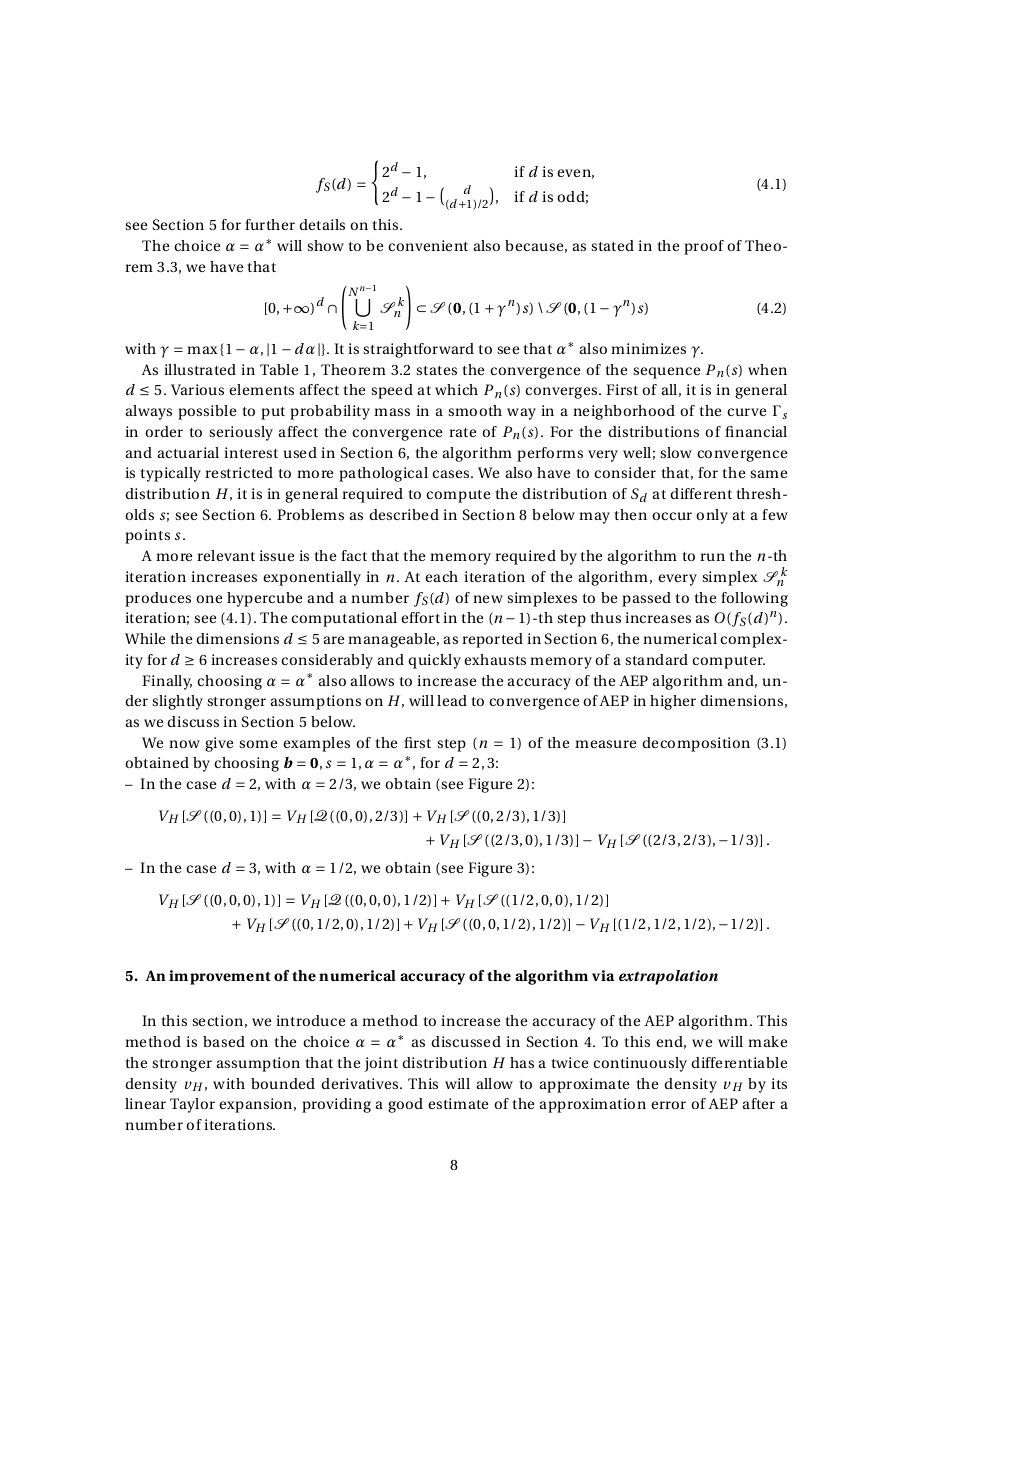formula: (265, 284, 785, 332), (316, 159, 785, 210), (232, 916, 768, 932), (159, 892, 606, 908), (159, 808, 564, 823), (426, 832, 768, 848)
